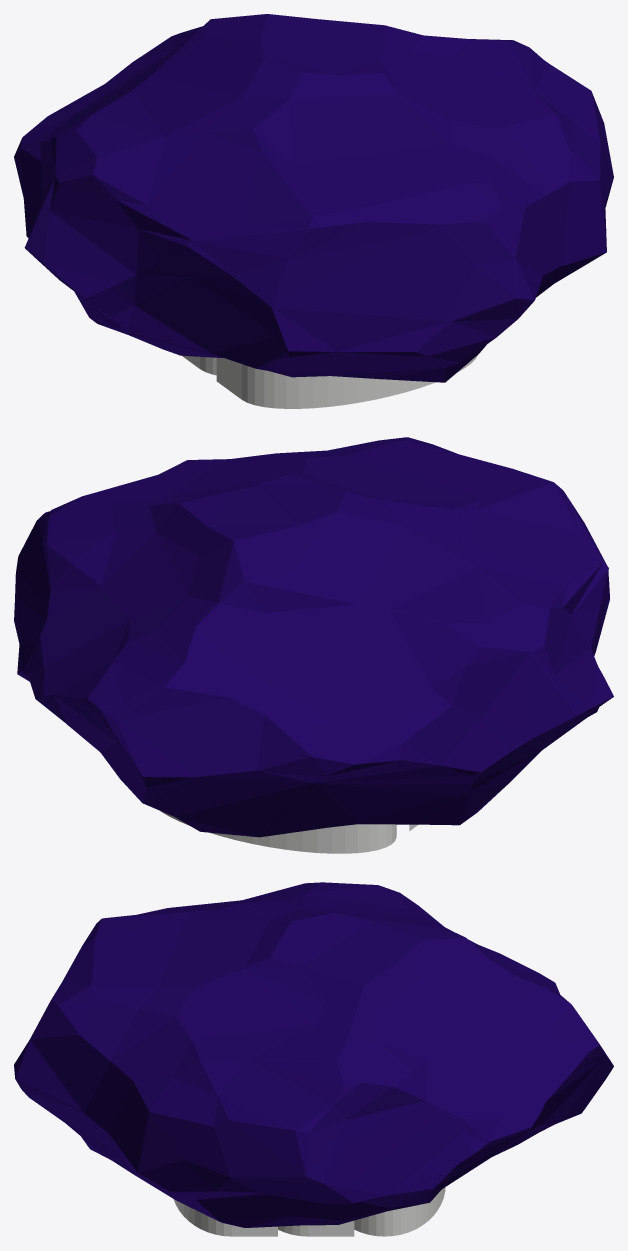
3 renders of one model, top to bottom at view 1: azimuth 30°, elevation 25°; view 2: azimuth 150°, elevation 25°; view 3: azimuth 270°, elevation 25°, orthographic. The views are drawn at different scales.
Visible parts, largest first — view 1: Cube.007, Curve; view 2: Cube.007, Curve; view 3: Cube.007, Curve.
Boxes of the visible parts, x1=… form: Cube.007: x1=14, y1=14, x2=613, y2=382; Curve: x1=182, y1=355, x2=477, y2=408; Cube.007: x1=14, y1=437, x2=613, y2=837; Curve: x1=160, y1=811, x2=418, y2=853; Cube.007: x1=14, y1=882, x2=613, y2=1227; Curve: x1=173, y1=1187, x2=445, y2=1236.
Bounding box in the file's own units: 2 × 0.96 × 2.04.
